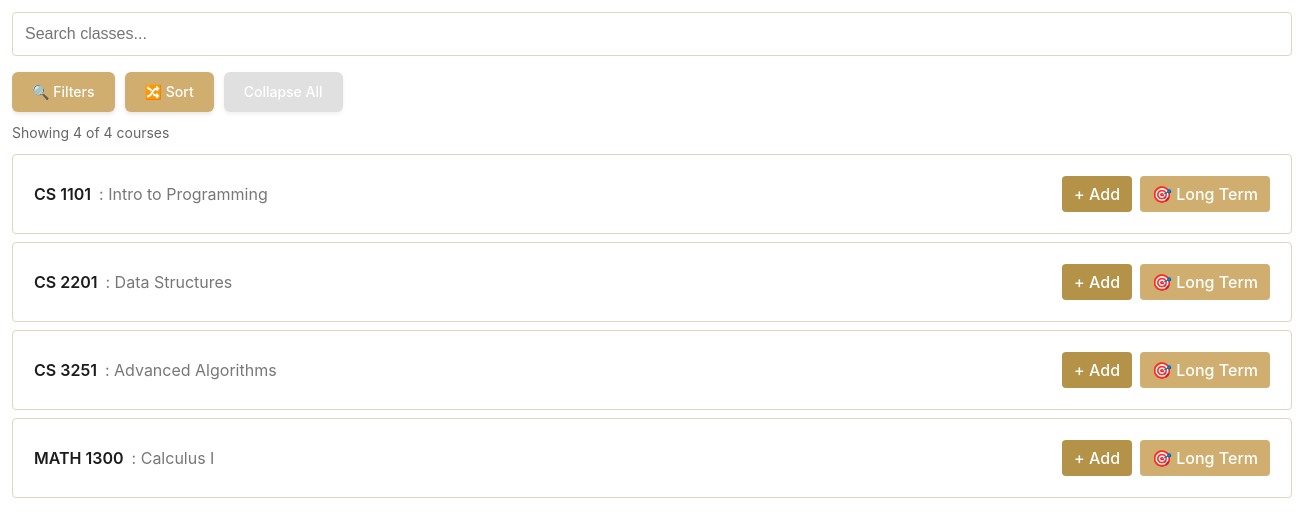
Scenario: SearchPage › Search Functionality › filters classes by code
Expected: the text "CS 1101" is shown, left=34, top=182, right=91, bottom=207
In the field with placeholder "Search classes...": (652, 34) left=12, top=12, right=1292, bottom=56, type "CS 1101"
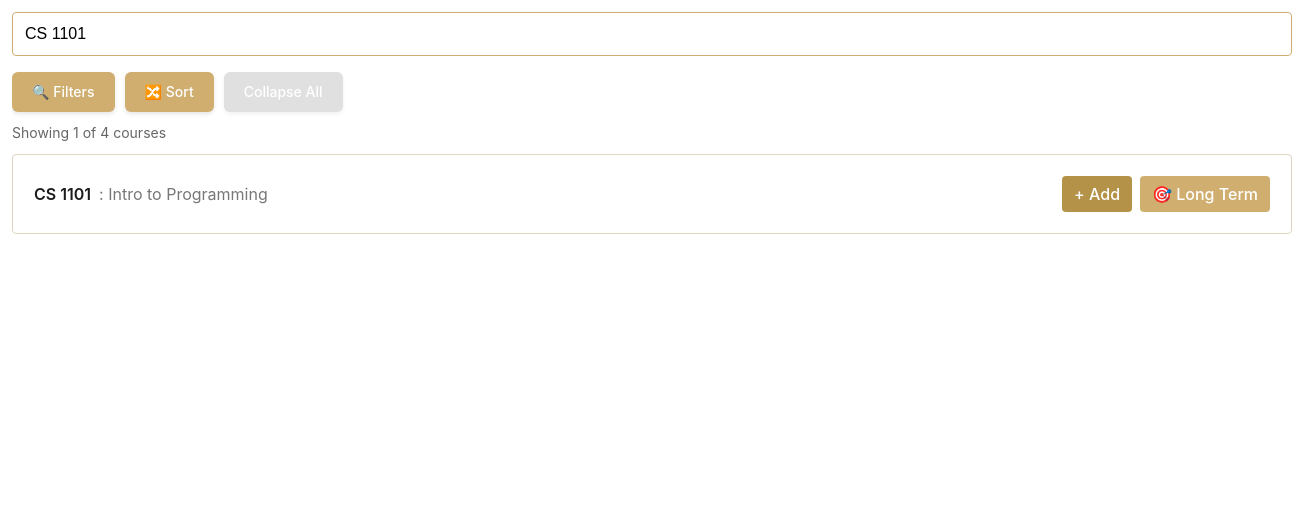
Expected: the text "CS 1101" is shown, left=34, top=182, right=91, bottom=207
Expected: the text "MATH 1300" is gone
